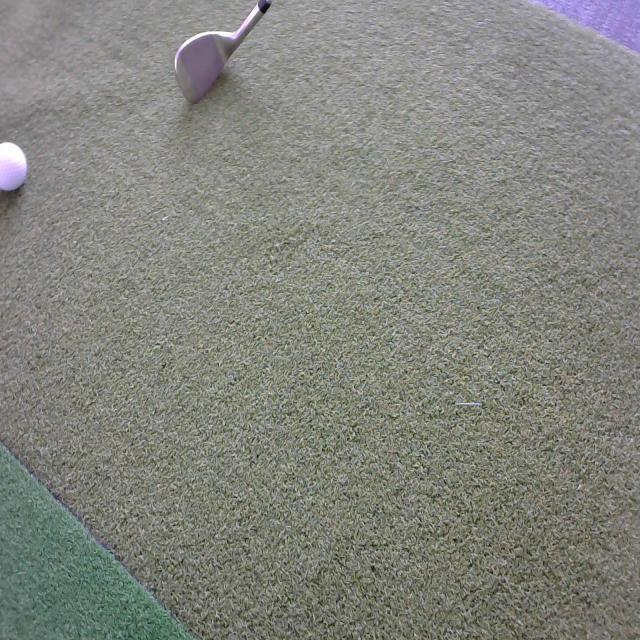ClubHead: (166, 18, 245, 117)
GolfBall: (0, 134, 32, 196)
